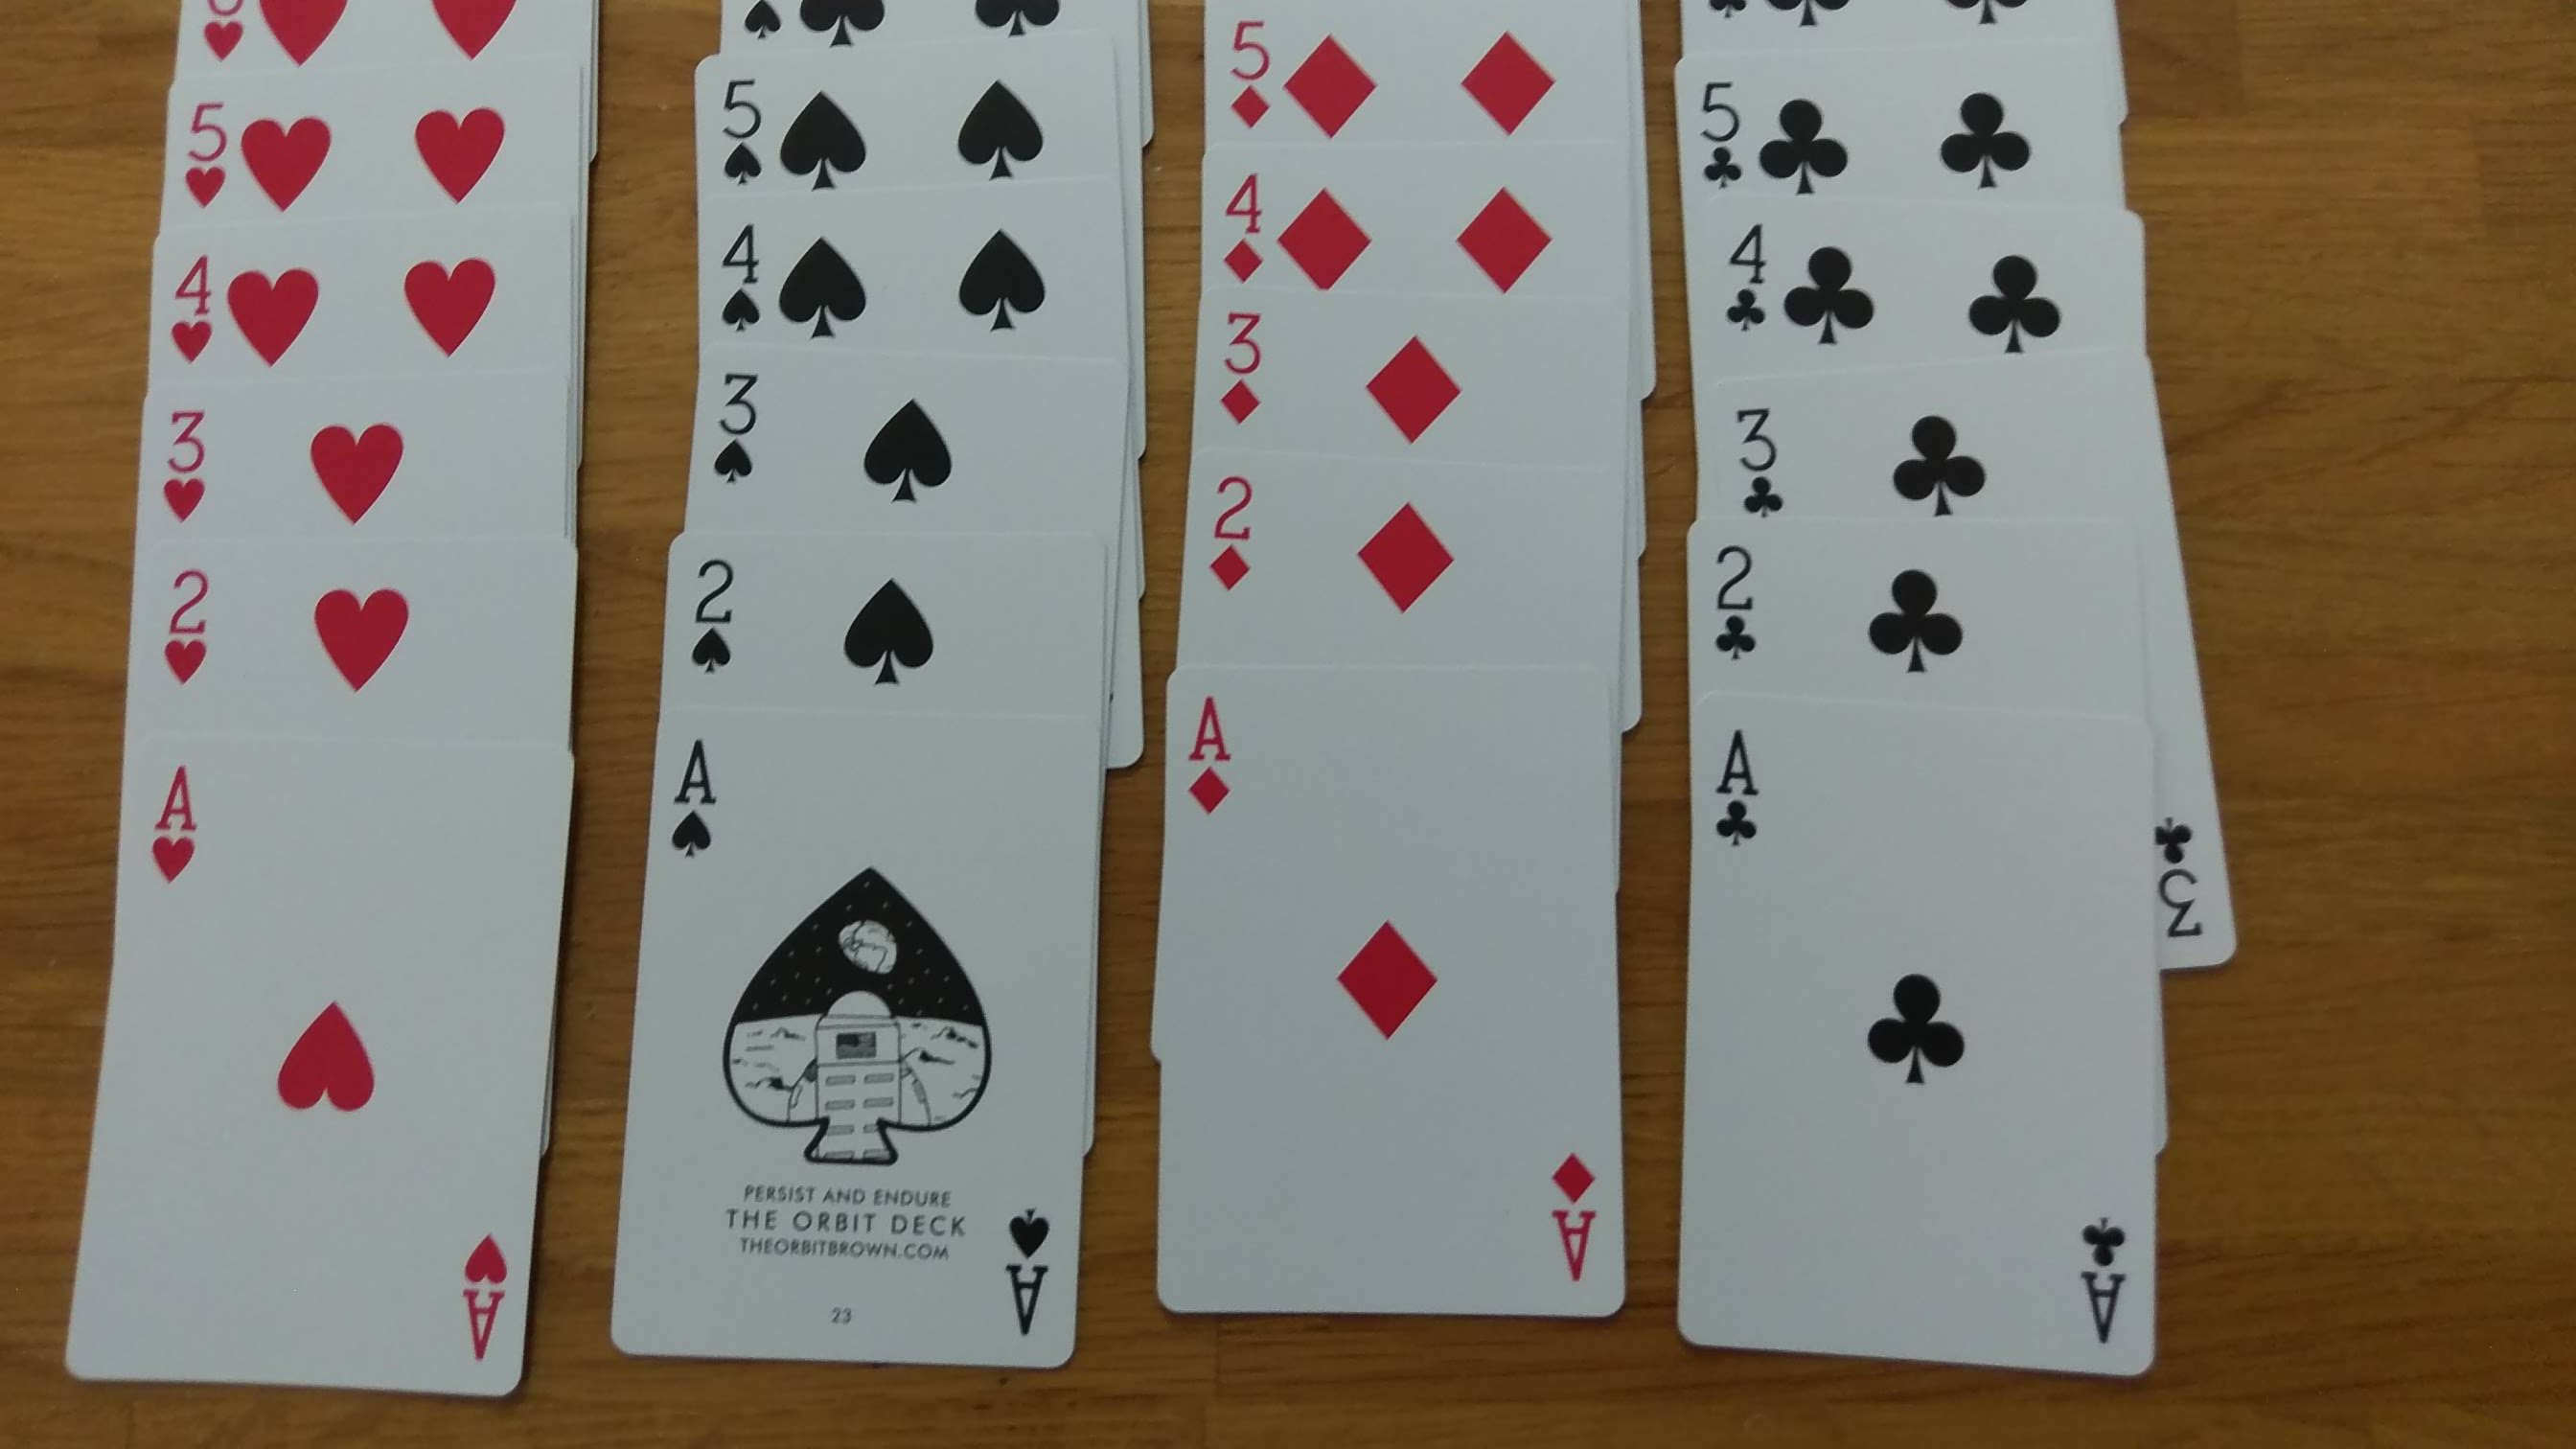1F: (1700, 697, 1775, 865)
1Q: (1173, 679, 1256, 844)
2F: (1688, 525, 1771, 674)
2Q: (1189, 451, 1267, 609)
3F: (1721, 395, 1801, 538)
3Q: (1215, 301, 1279, 441)
4F: (1700, 195, 1782, 347)
4Q: (1223, 157, 1277, 290)
5F: (1681, 60, 1766, 205)
5Q: (1219, 5, 1284, 140)
